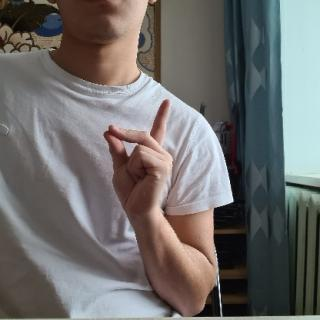TAA: (100, 95, 180, 228)
